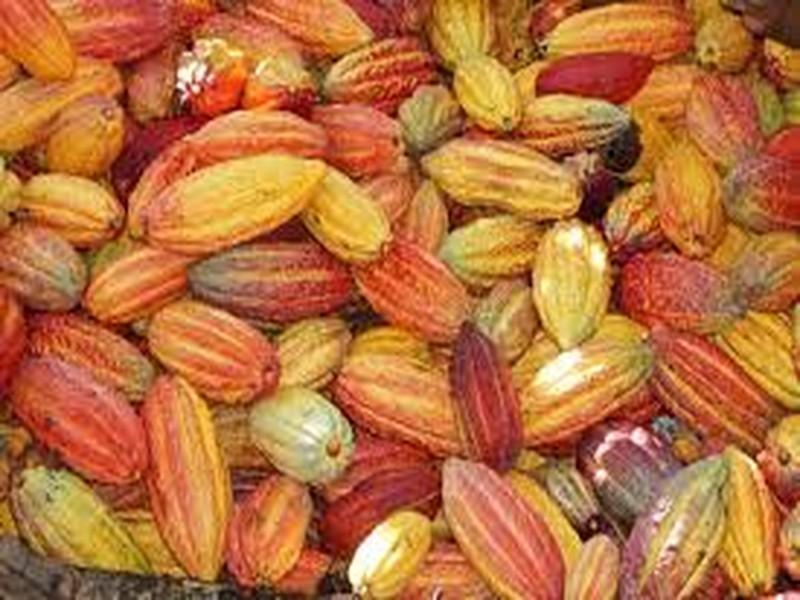Cacaopod: (141, 153, 325, 242)
